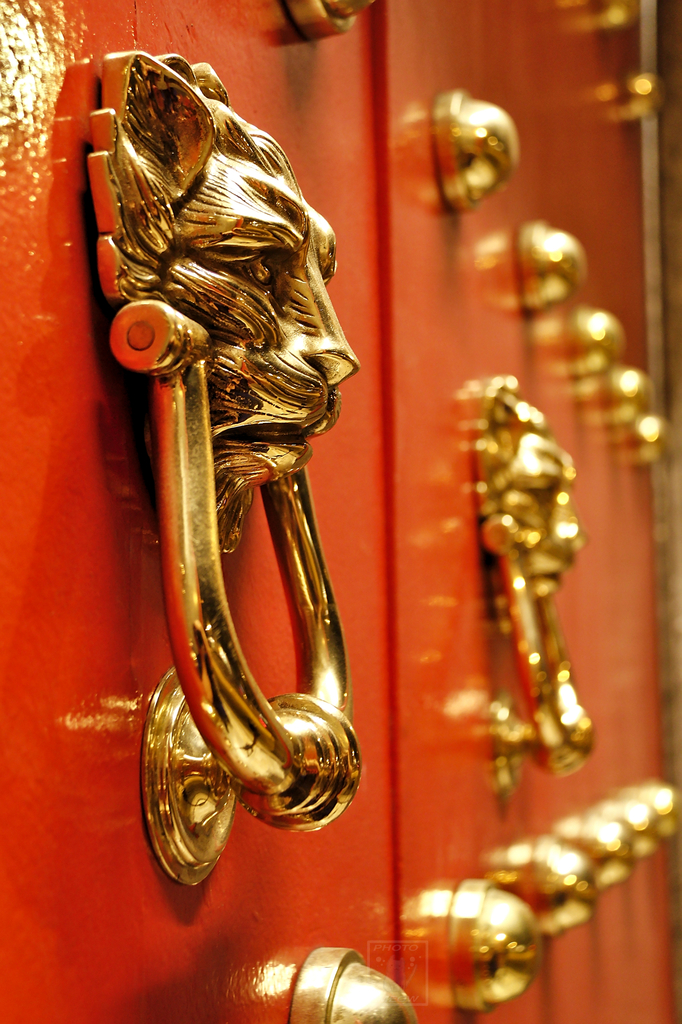door: (3, 10, 378, 1024), (384, 11, 682, 1024)
handle: (148, 363, 369, 849), (515, 589, 616, 798)
